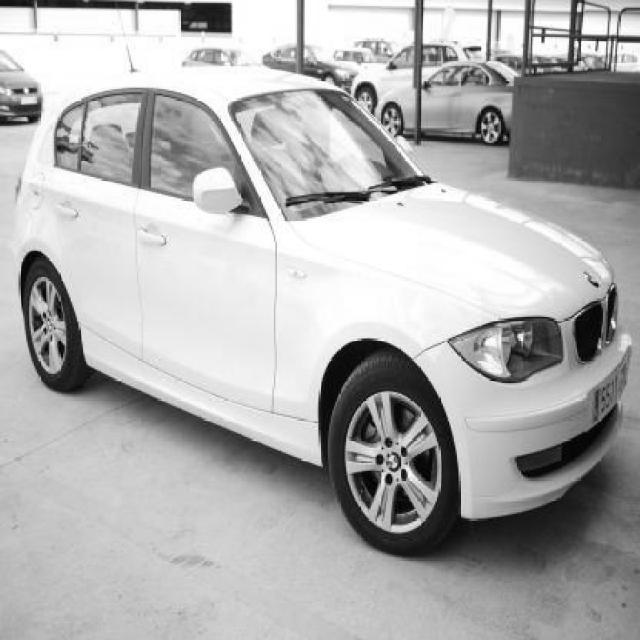car: (12, 61, 630, 562)
